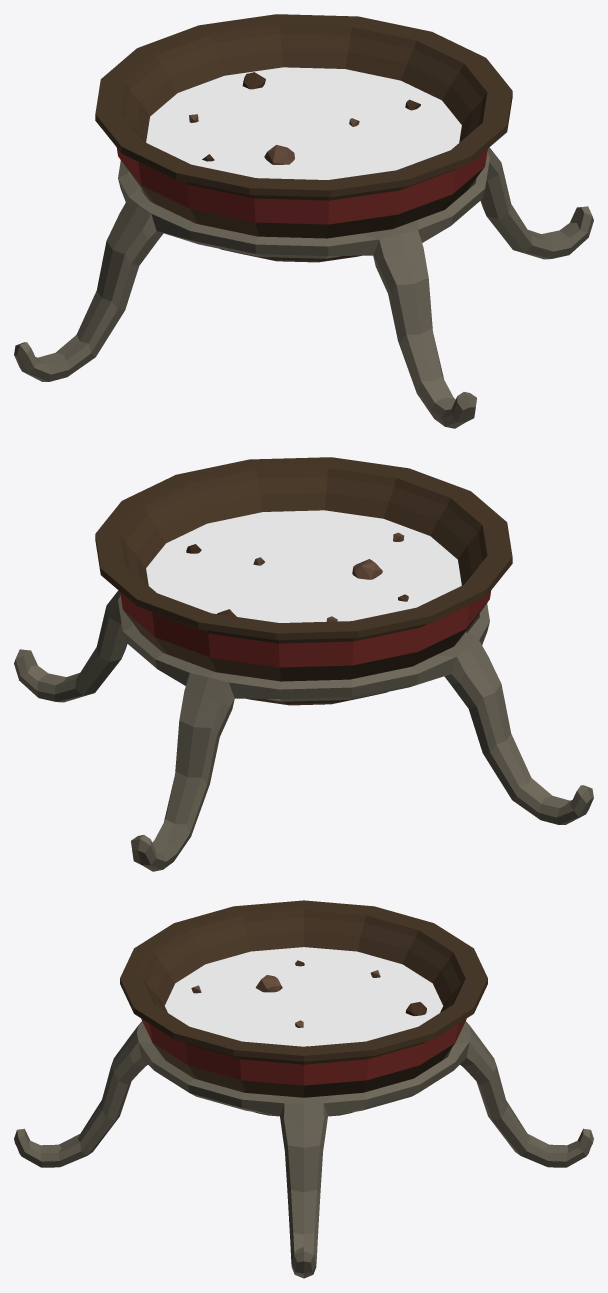
File: durability_remove.gltf
The picture shows the model from 3 angles, top to bottom: view 1: azimuth 30°, elevation 25°; view 2: azimuth 150°, elevation 25°; view 3: azimuth 270°, elevation 25°; orthographic projection. The views are drawn at different scales.
Visible parts, largest first — view 1: bowl sand.001; view 2: bowl sand.001; view 3: bowl sand.001.
Part boxes in pixels (<box>): bowl sand.001: <box>14,14,593,428</box>; bowl sand.001: <box>14,457,593,871</box>; bowl sand.001: <box>14,900,593,1278</box>.
Size of the model in its own units: 4.36 by 1.57 by 4.36.
